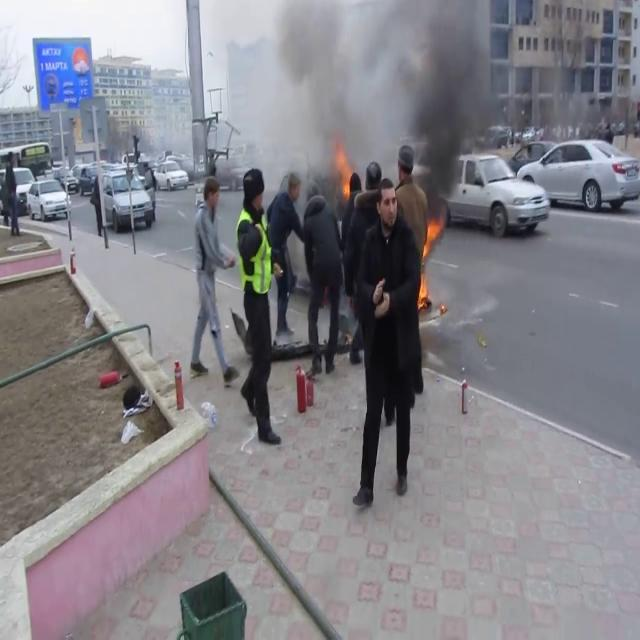Fire: (418, 210, 442, 308), (334, 142, 352, 202)
Smoke: (268, 0, 506, 184)
